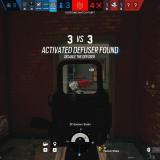Character: (68, 78, 84, 95)
Friend_label: (148, 141, 160, 149)
Head: (70, 79, 73, 81)
